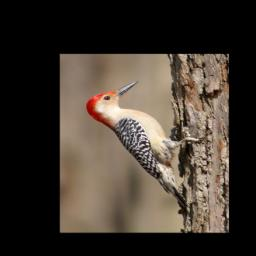Woodpecker: (82, 80, 206, 209)
